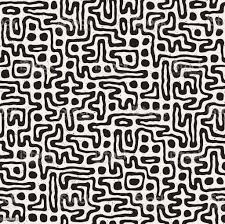maze: (1, 2, 225, 223)
